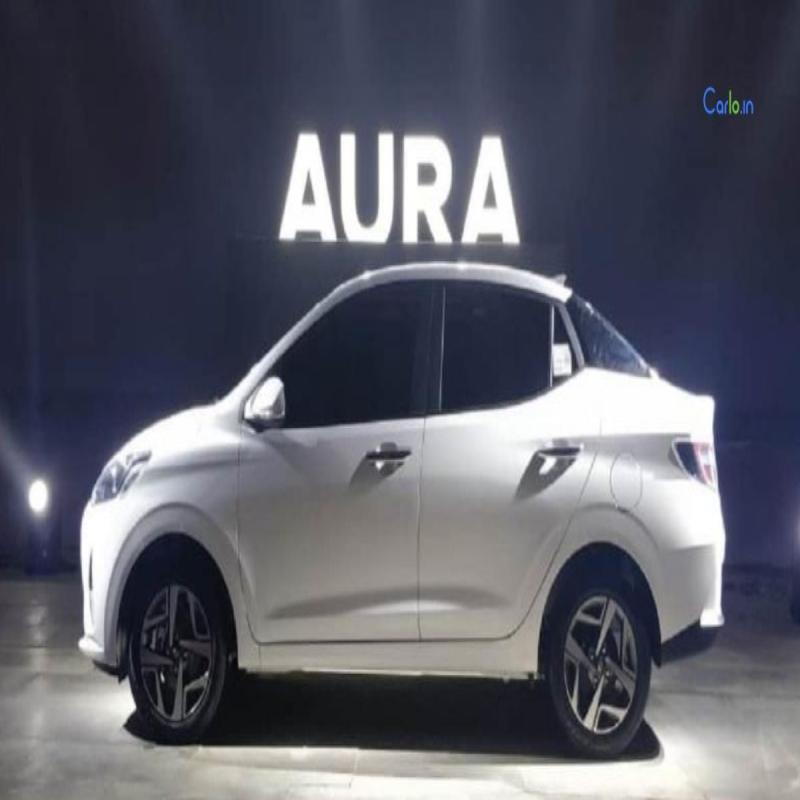car: (65, 240, 717, 744)
